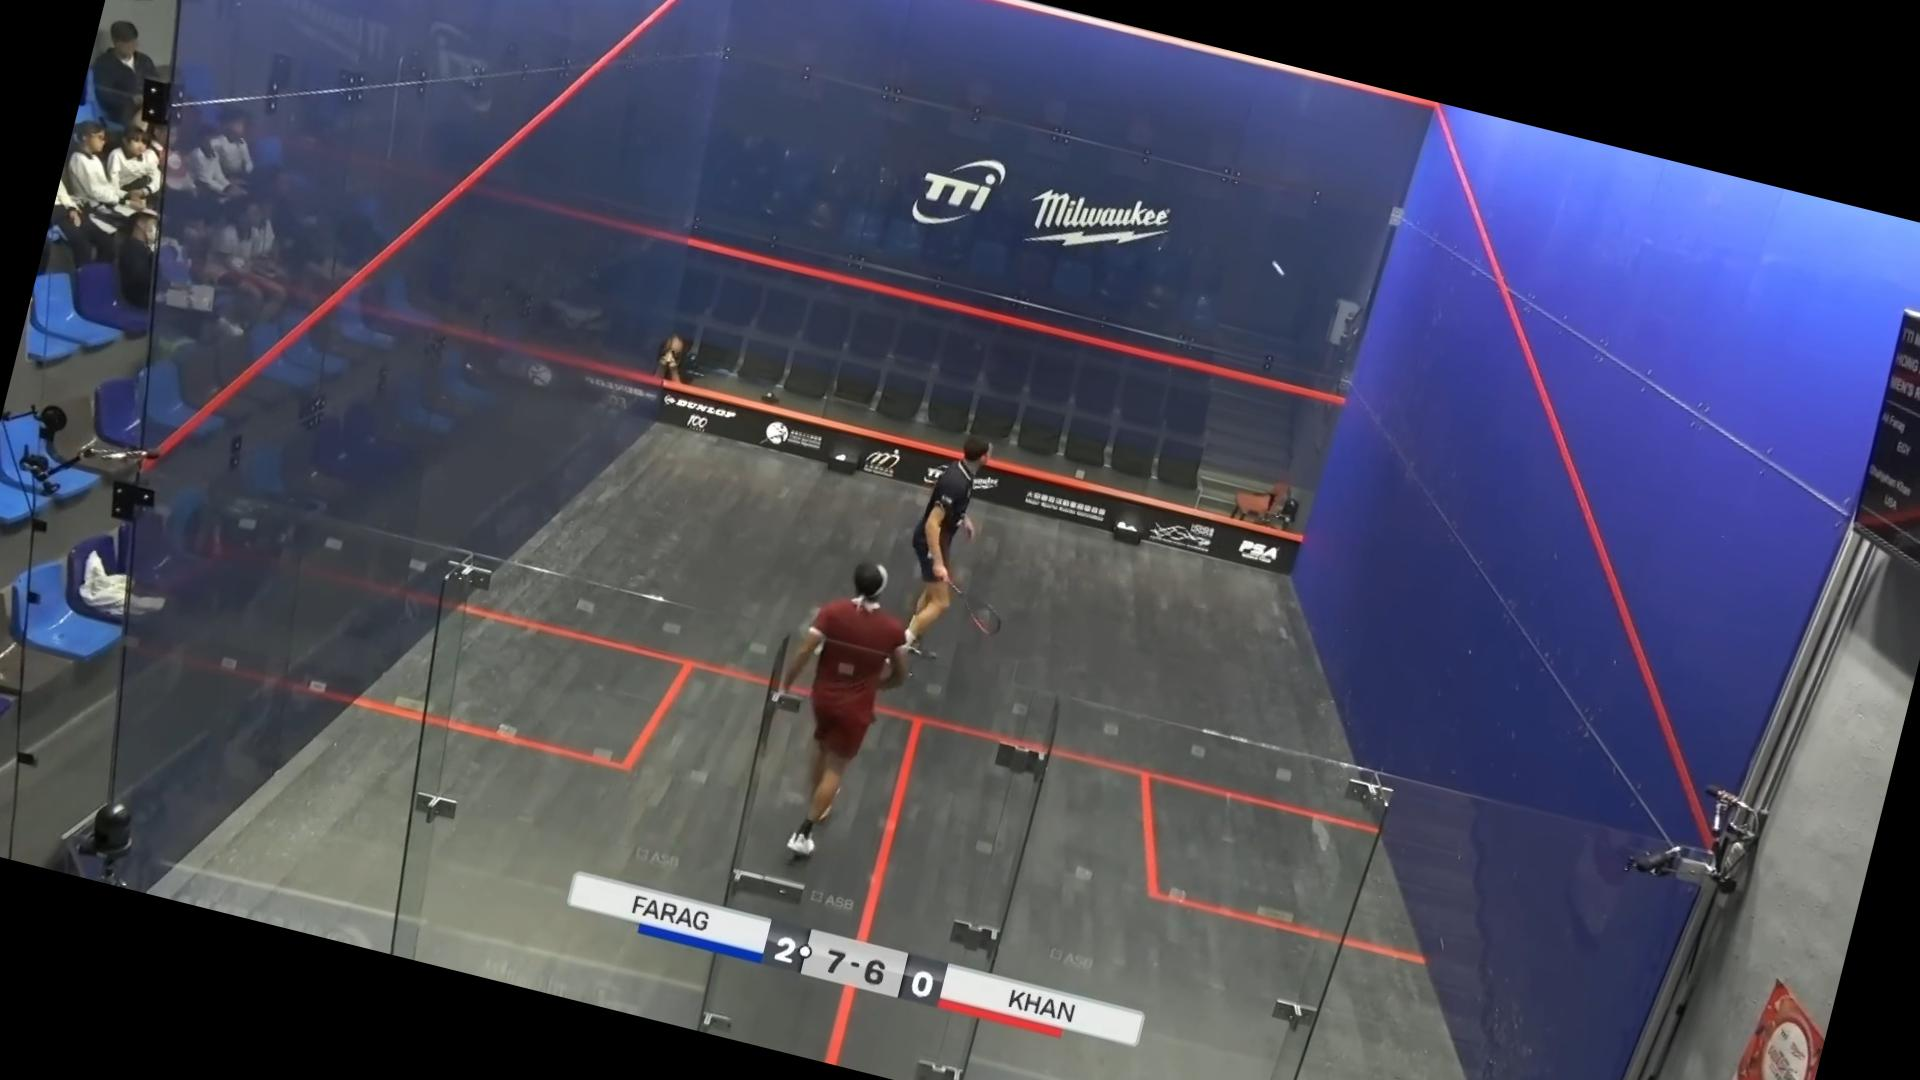Racket: (935, 583, 1025, 657)
